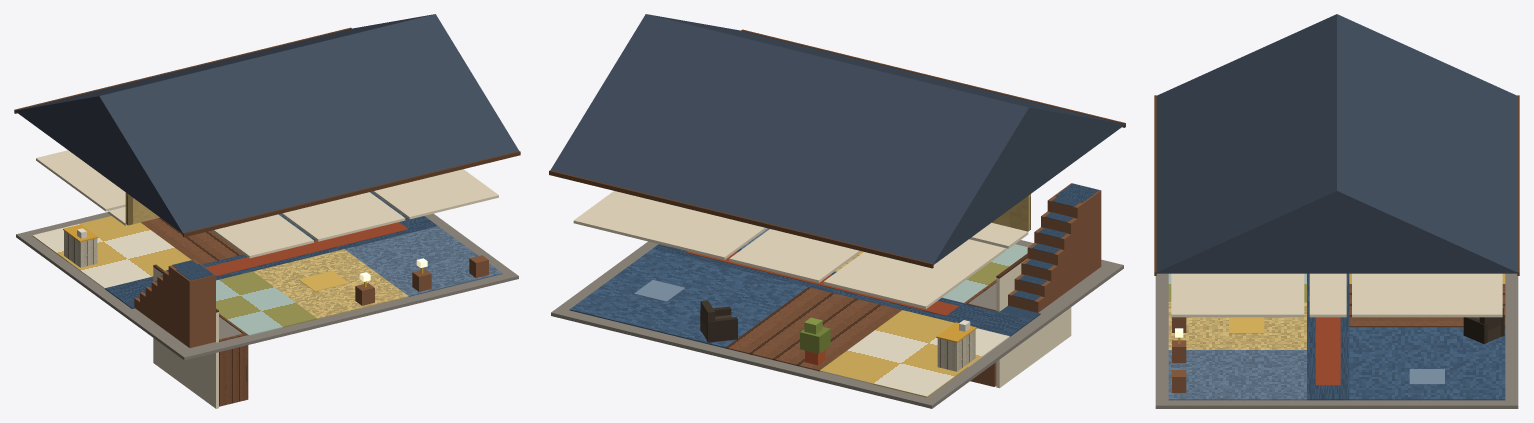
The model's file is structure.glb.
The picture shows the model from 3 angles, left to right: view 1: azimuth 30°, elevation 25°; view 2: azimuth 150°, elevation 25°; view 3: azimuth 270°, elevation 25°; orthographic projection. The views are drawn at different scales.
Visible parts, largest first — view 1: Part1, Box1, Box14, Box6, Box10, Box12, Box15, Box11, Box35, Box13, Box37, Box7 (+10 smaller); view 2: Part1, Box2, Box1, Box6, Box4, Box3, Box7, Box5, Box8, Box37, Box19, Box12 (+15 smaller); view 3: Part1, Box2, Box1, Box3, Box14, Box15, Box10, Box8, Box76, Box9, Box4, Box81 (+6 smaller).
Boxes of the visible parts, left/top/right/bottom form: Part1: left=15, top=14, right=518, bottom=233; Box1: left=16, top=212, right=518, bottom=360; Box14: left=344, top=226, right=502, bottom=296; Box6: left=32, top=216, right=191, bottom=288; Box10: left=253, top=249, right=408, bottom=319; Box12: left=216, top=271, right=317, bottom=335; Box15: left=372, top=169, right=498, bottom=219; Box11: left=280, top=192, right=405, bottom=241; Box35: left=174, top=264, right=215, bottom=347; Box13: left=212, top=214, right=313, bottom=258; Box37: left=153, top=267, right=218, bottom=408; Box7: left=36, top=150, right=125, bottom=211; Part1: left=551, top=14, right=1124, bottom=265; Box2: left=569, top=249, right=807, bottom=348; Box1: left=551, top=240, right=1123, bottom=408; Box6: left=820, top=310, right=1009, bottom=397; Box4: left=725, top=287, right=901, bottom=371; Box3: left=573, top=191, right=767, bottom=259; Box7: left=823, top=239, right=1005, bottom=308; Box5: left=729, top=229, right=861, bottom=282; Box8: left=652, top=244, right=1031, bottom=336; Box37: left=996, top=258, right=1071, bottom=388; Box19: left=549, top=170, right=933, bottom=268; Box12: left=942, top=244, right=1027, bottom=302; Part1: left=1155, top=14, right=1518, bottom=273; Box2: left=1349, top=327, right=1505, bottom=400; Box1: left=1155, top=273, right=1518, bottom=408; Box3: left=1352, top=273, right=1502, bottom=317; Box14: left=1168, top=350, right=1306, bottom=400; Box15: left=1171, top=273, right=1304, bottom=317; Box10: left=1168, top=302, right=1306, bottom=349; Box8: left=1307, top=273, right=1349, bottom=400; Box76: left=1315, top=317, right=1340, bottom=385; Box9: left=1309, top=273, right=1346, bottom=317; Box4: left=1349, top=284, right=1505, bottom=327; Box81: left=1229, top=317, right=1264, bottom=333.
Size of the model in its own units: 11.8 by 8.92 by 10.3.
Materials: 32 (9 with a texture image).
